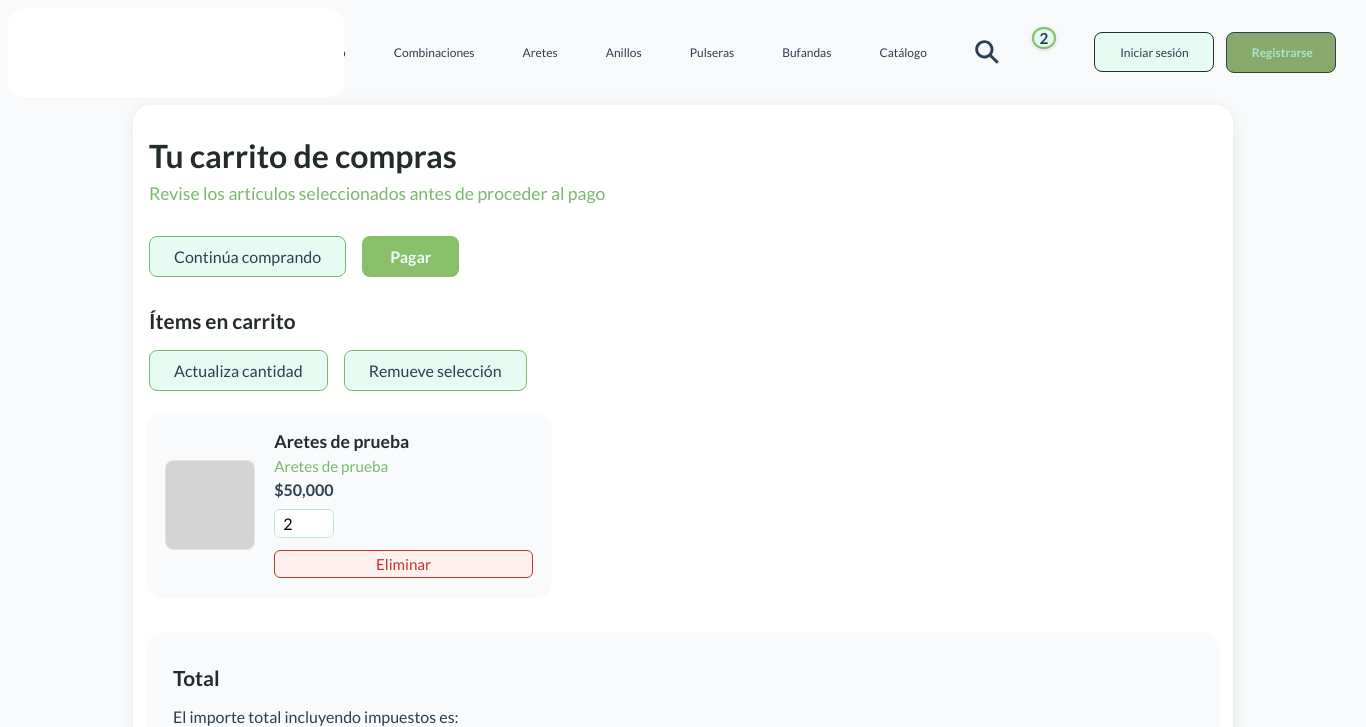
Test case: ShoppingCart › permite eliminar productos del carrito
Step 1. Click the button "Eliminar" → (404, 564), box [274, 550, 533, 578]
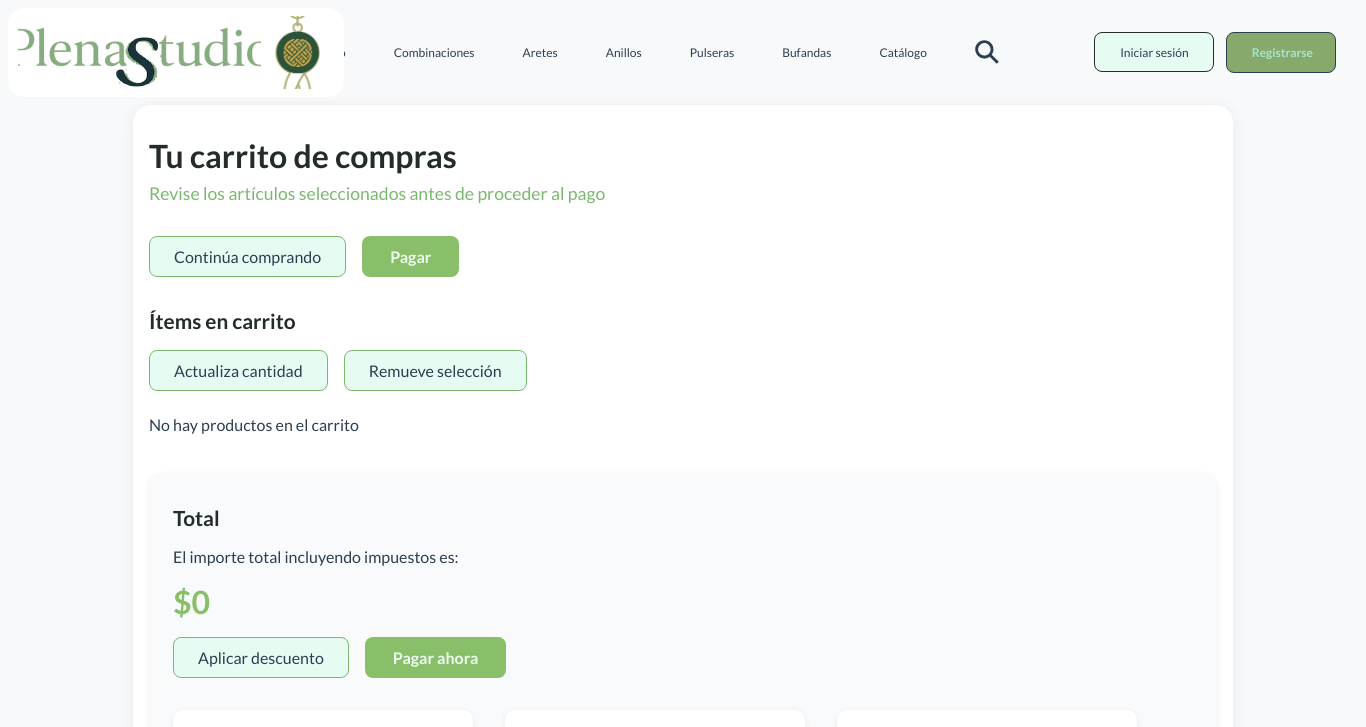
Expected: the text "Aretes de prueba" is gone
Expected: the text "No hay productos en el carrito" is shown, [149, 415, 359, 434]
